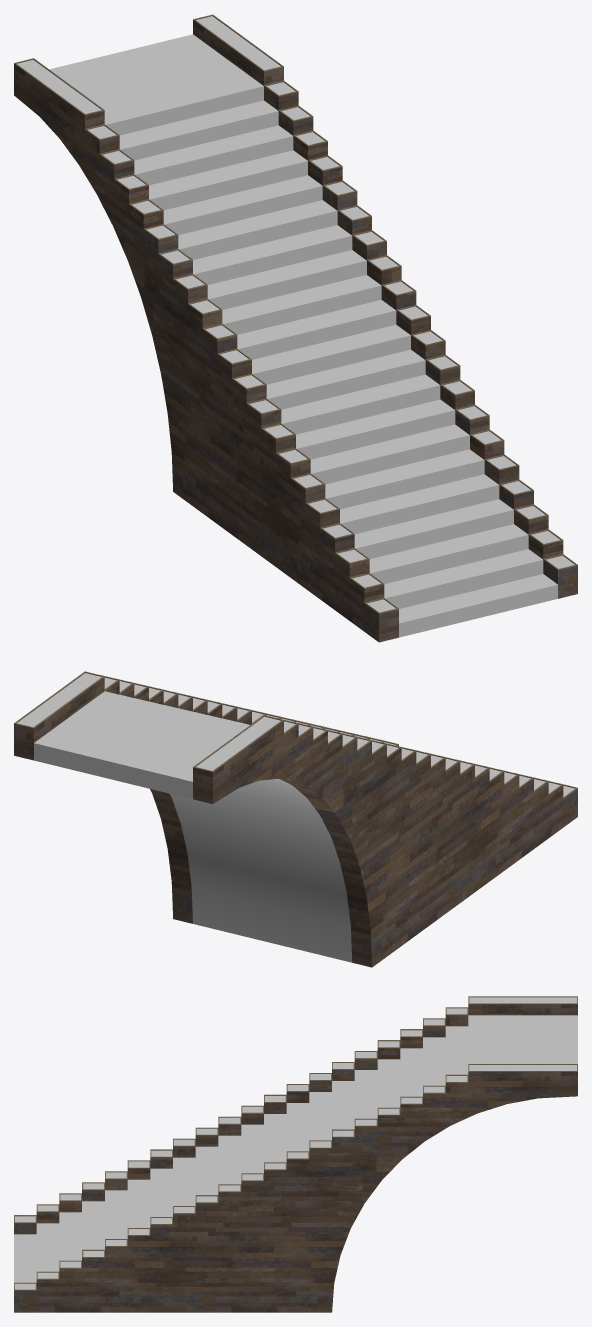
The model's file is stairs.fbx.
3 views of the same model, one above another, from view 1: azimuth 30°, elevation 25°; view 2: azimuth 150°, elevation 25°; view 3: azimuth 270°, elevation 25° (orthographic). The views are drawn at different scales.
Visible parts, largest first — view 1: BezierCircle.002; view 2: BezierCircle.002; view 3: BezierCircle.002.
Boxes of the visible parts, x1,y1,x2,y2 form: BezierCircle.002: (14, 14, 577, 642); BezierCircle.002: (14, 671, 577, 967); BezierCircle.002: (14, 996, 577, 1312).
Bounding box in the file's own units: 250 × 375 × 794.
